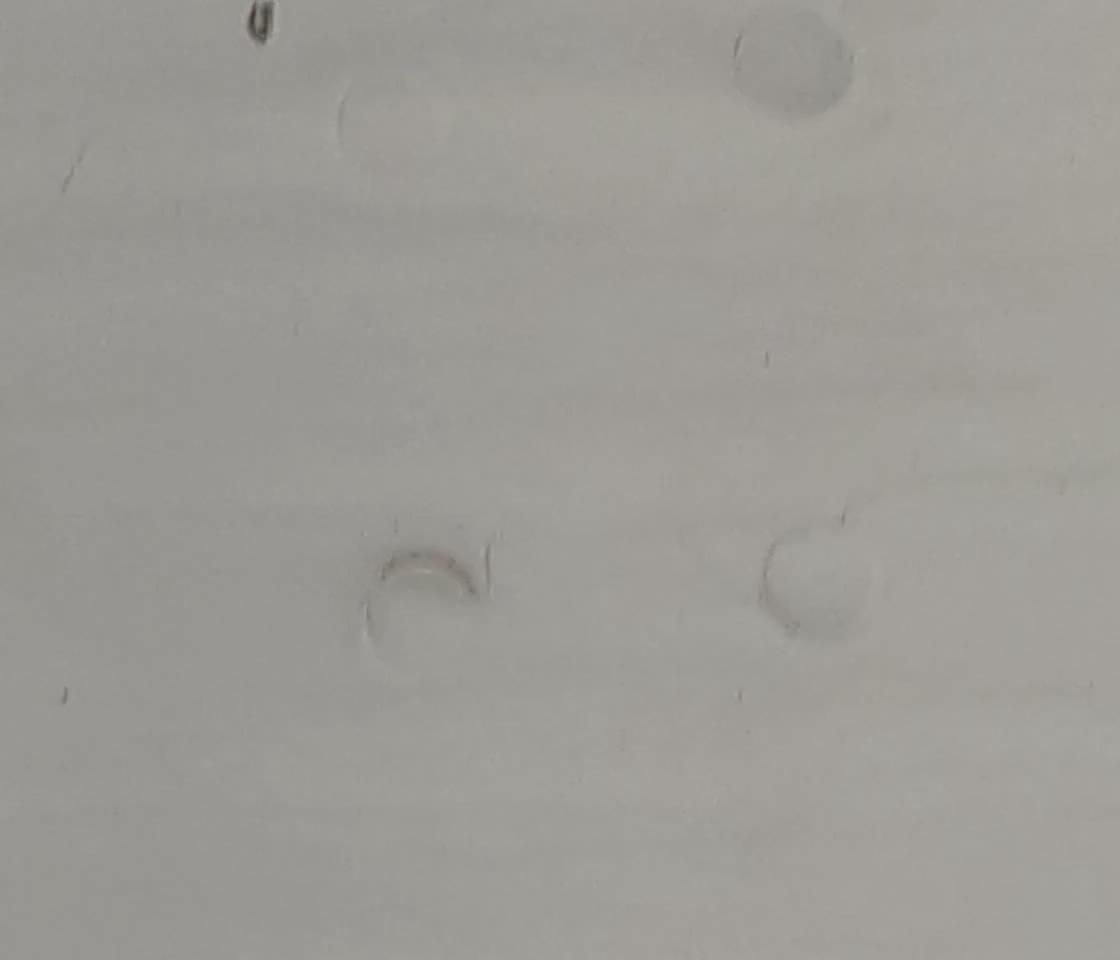scratch: (479, 534, 499, 599), (50, 681, 79, 711)
